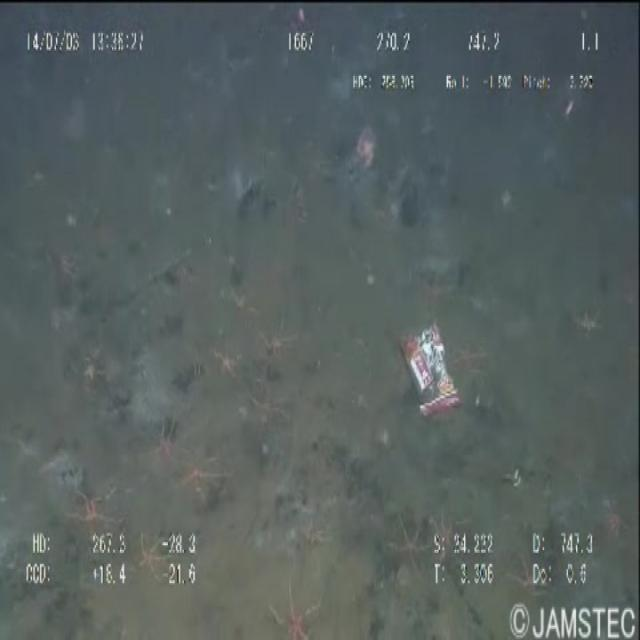Litter: (390, 314, 469, 438)
